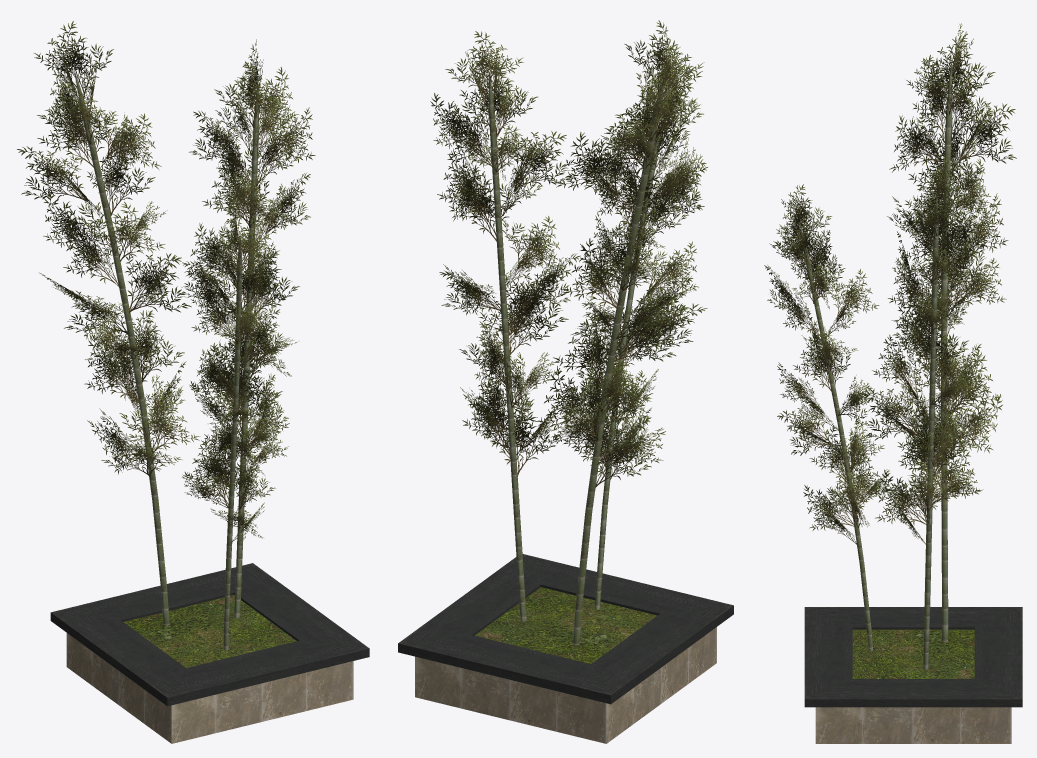
File: Food.fbx
3 renders of one model, left to right at view 1: azimuth 30°, elevation 25°; view 2: azimuth 150°, elevation 25°; view 3: azimuth 270°, elevation 25°, orthographic. The views are drawn at different scales.
Parts seen in each view (by area): view 1: fun_b0_m0566 Part 1.0, fun_b0_m0566 Part 0.0; view 2: fun_b0_m0566 Part 1.0, fun_b0_m0566 Part 0.0; view 3: fun_b0_m0566 Part 1.0, fun_b0_m0566 Part 0.0.
Part boxes in pixels (<box>): fun_b0_m0566 Part 1.0: <box>17,21,315,542</box>; fun_b0_m0566 Part 0.0: <box>50,72,369,743</box>; fun_b0_m0566 Part 1.0: <box>430,20,707,487</box>; fun_b0_m0566 Part 0.0: <box>398,73,733,743</box>; fun_b0_m0566 Part 1.0: <box>764,23,1016,544</box>; fun_b0_m0566 Part 0.0: <box>799,66,1022,743</box>.
Size of the model in its own units: 282 by 643 by 239.
Materials: 2 (2 with a texture image).
